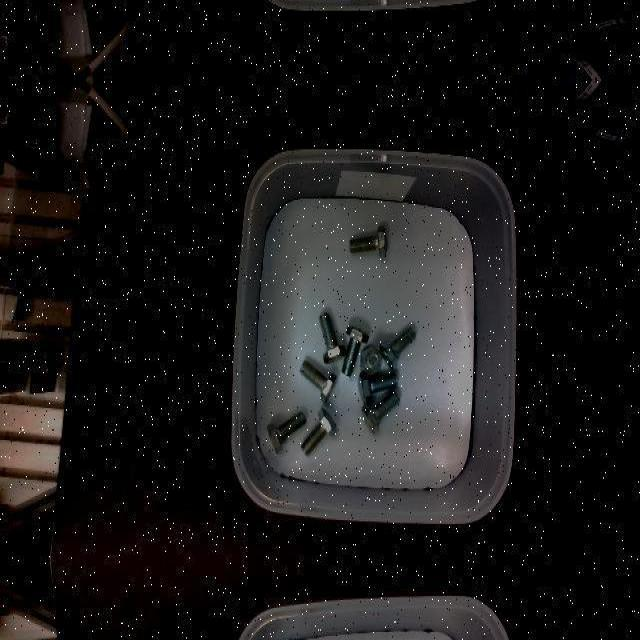screw: (301, 407, 336, 455), (362, 389, 399, 433), (300, 358, 337, 402), (268, 411, 305, 453), (318, 312, 346, 364), (380, 328, 415, 368), (342, 325, 369, 375), (350, 226, 387, 256), (360, 346, 381, 374)
